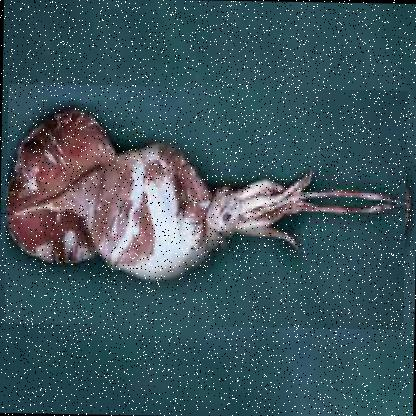colossal_squid: (5, 82, 408, 330)
